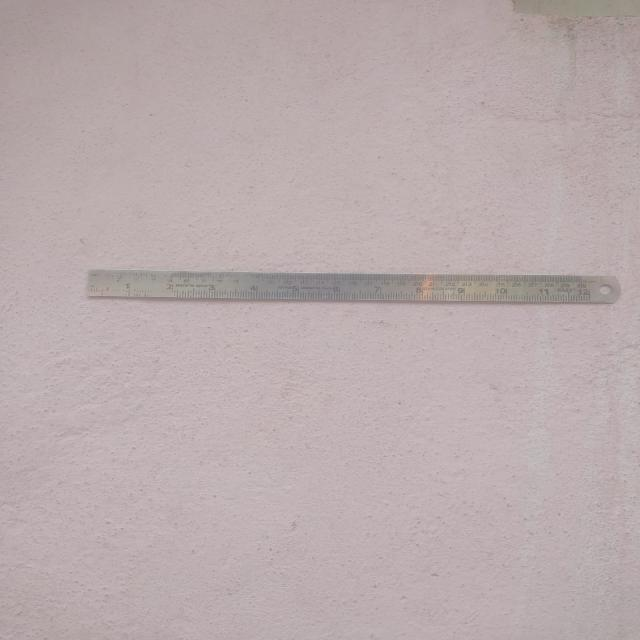scale: (88, 270, 624, 304)
